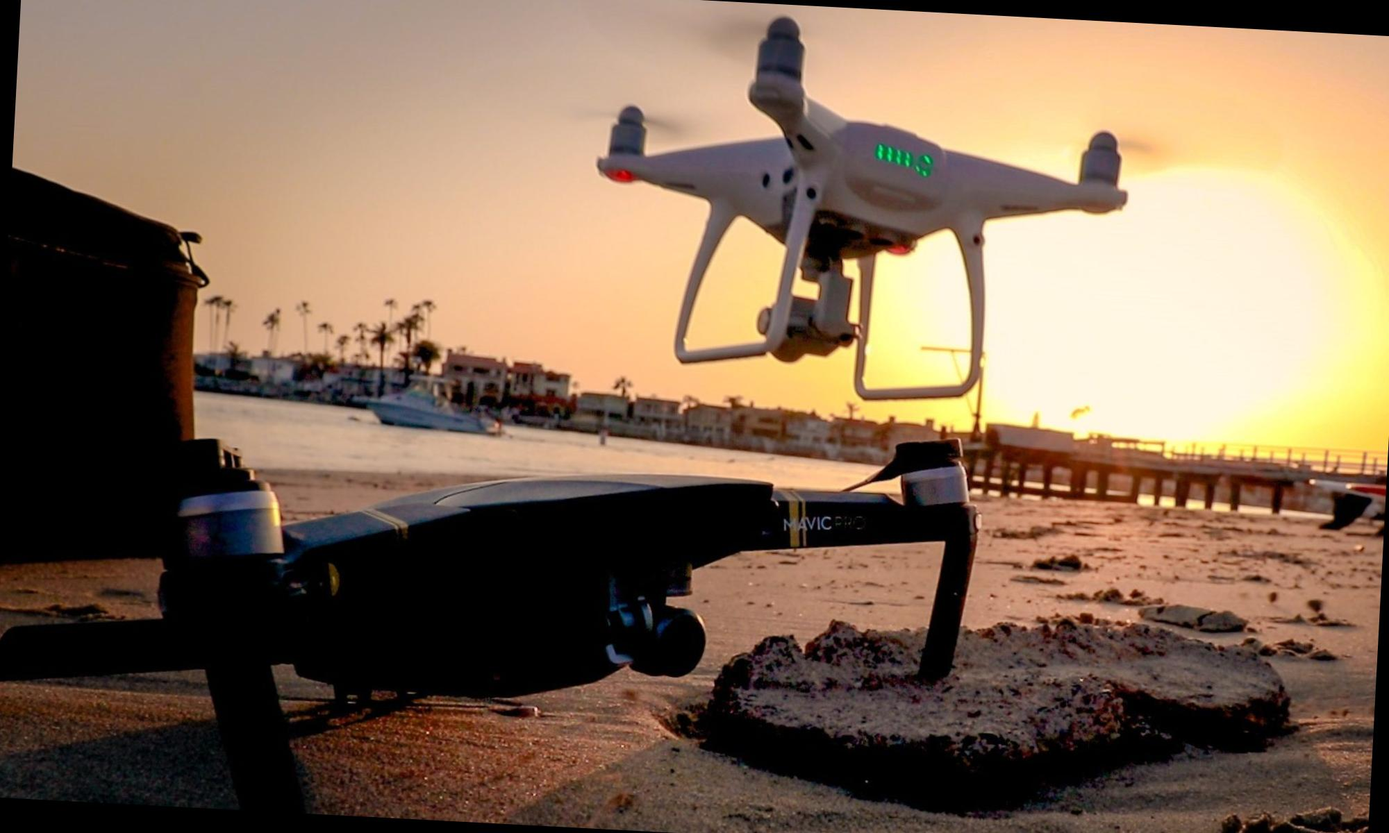drone: (90, 367, 1101, 768), (546, 20, 1171, 347)
